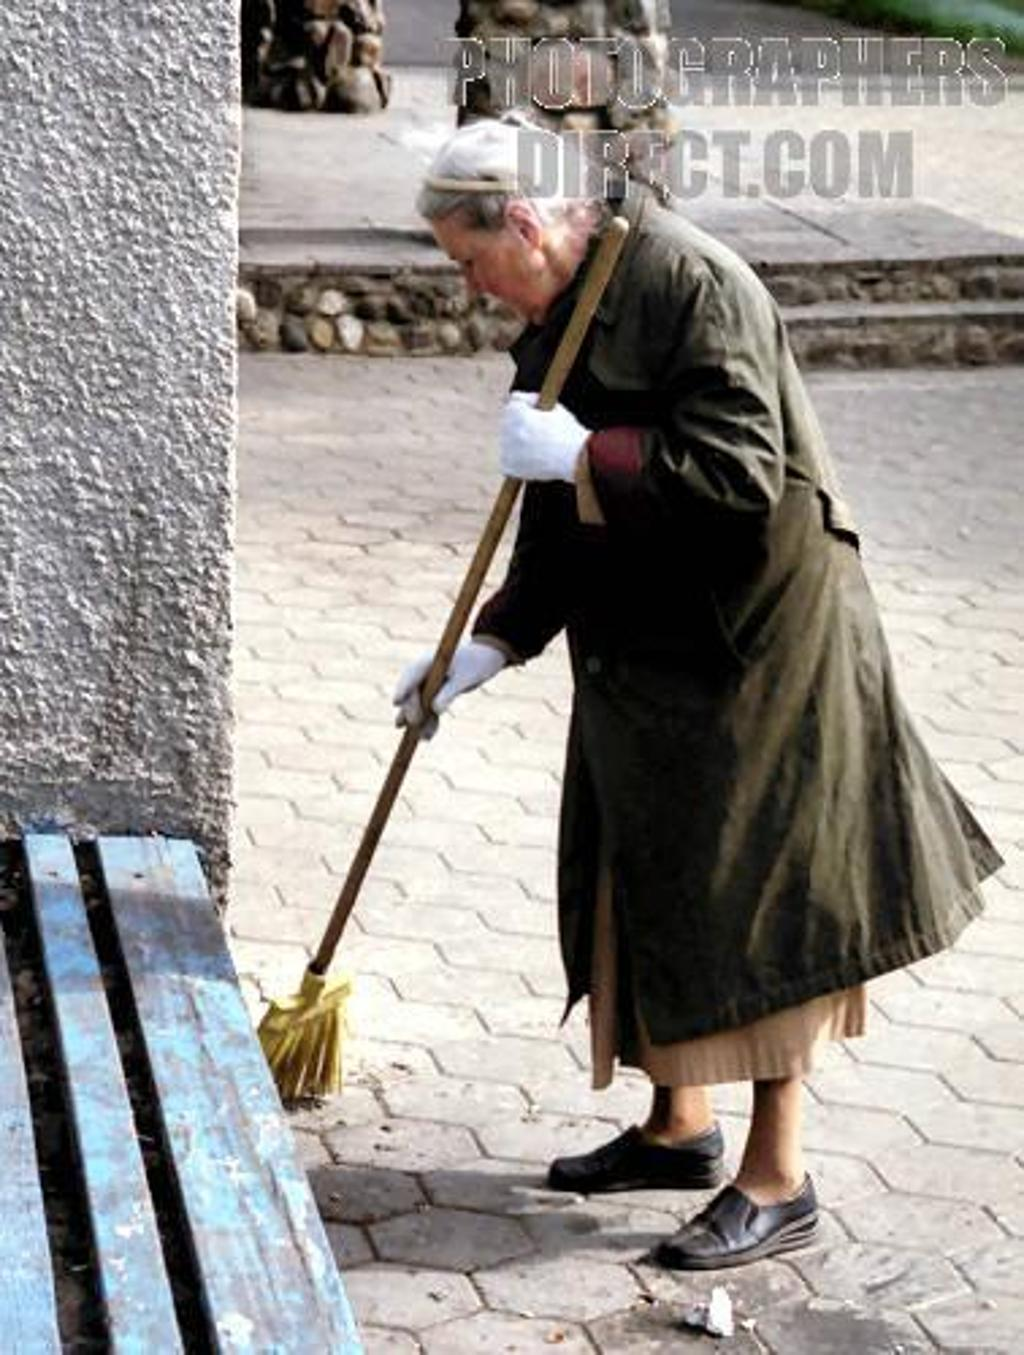face: (431, 180, 550, 312)
